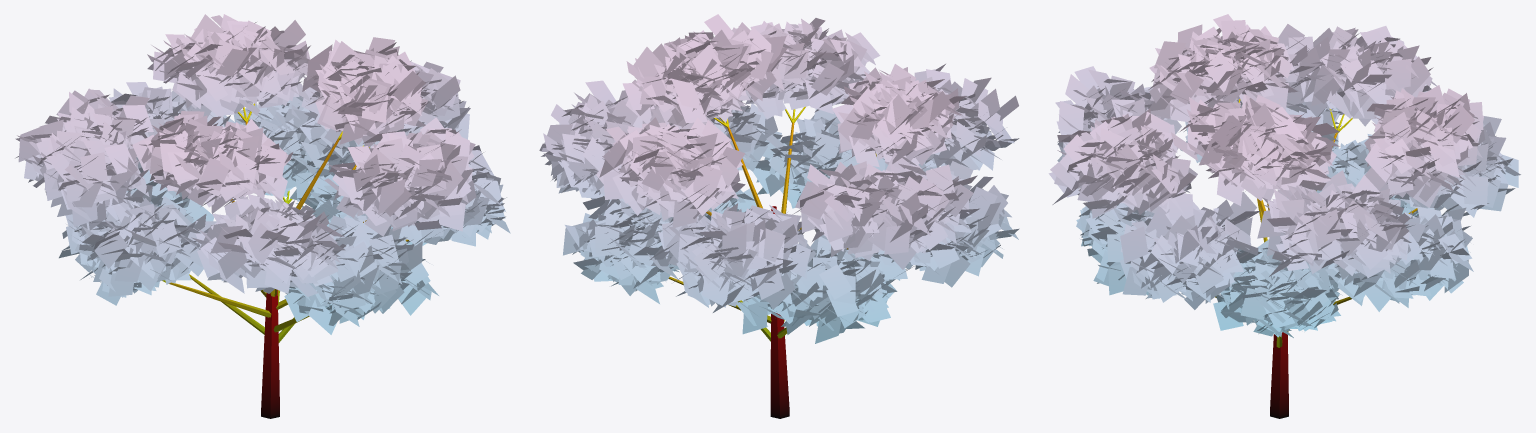
Rendered from oak-lod0.glb.
3 views of the same model, side by side, from view 1: azimuth 30°, elevation 25°; view 2: azimuth 150°, elevation 25°; view 3: azimuth 270°, elevation 25° (orthographic).
Visible parts, largest first — view 1: oak canopy, oak trunk and branches; view 2: oak canopy, oak trunk and branches; view 3: oak canopy, oak trunk and branches.
Boxes of the visible parts, box(x1,y1,x2,y2) form: oak canopy: box(15, 14, 510, 334); oak trunk and branches: box(162, 103, 408, 418); oak canopy: box(539, 14, 1019, 343); oak trunk and branches: box(668, 106, 876, 418); oak canopy: box(1048, 14, 1520, 337); oak trunk and branches: box(1215, 99, 1417, 418).
Size of the model in its own units: 13.65 by 11.1 by 13.63.
